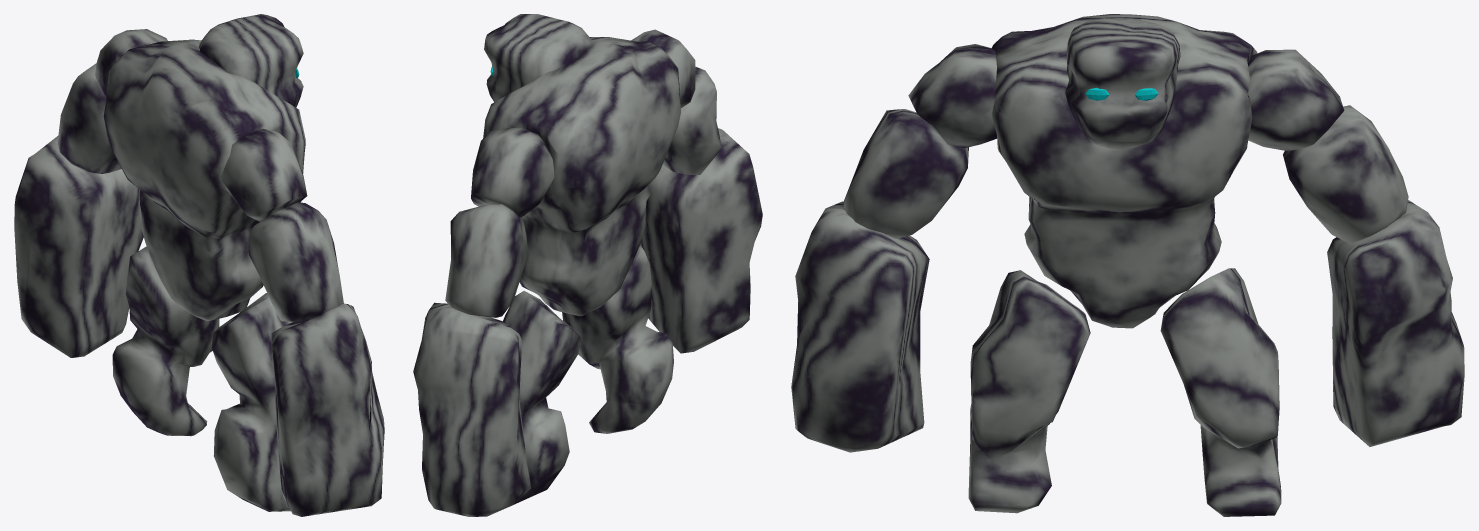
Rendered from Великан.fbx.
The picture shows the model from 3 angles, left to right: view 1: azimuth 30°, elevation 25°; view 2: azimuth 150°, elevation 25°; view 3: azimuth 270°, elevation 25°; orthographic projection. The views are drawn at different scales.
Parts seen in each view (by area): view 1: eyes; view 2: eyes; view 3: eyes.
Part boxes in pixels (x1,y1,x2,y2): eyes: (14,14,384,516); eyes: (413,14,762,516); eyes: (791,14,1464,516).
Size of the model in its own units: 0.3414 by 0.9579 by 1.19.
Materials: 1 (1 with a texture image).
